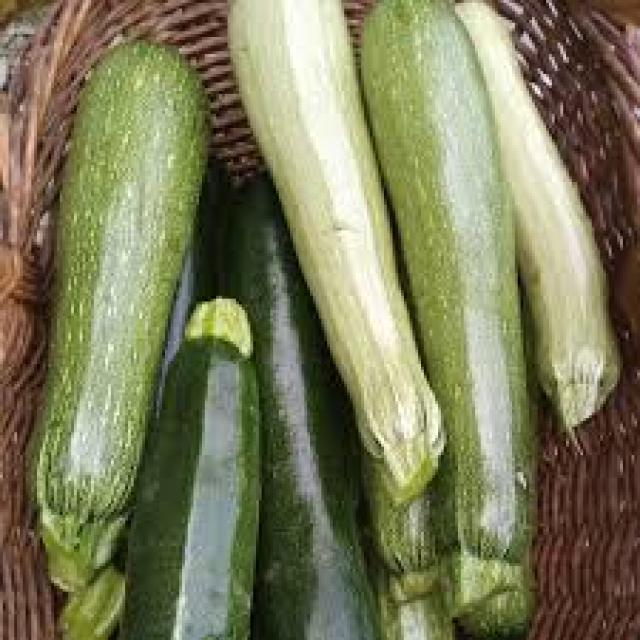Zucchini: (376, 5, 526, 624)
